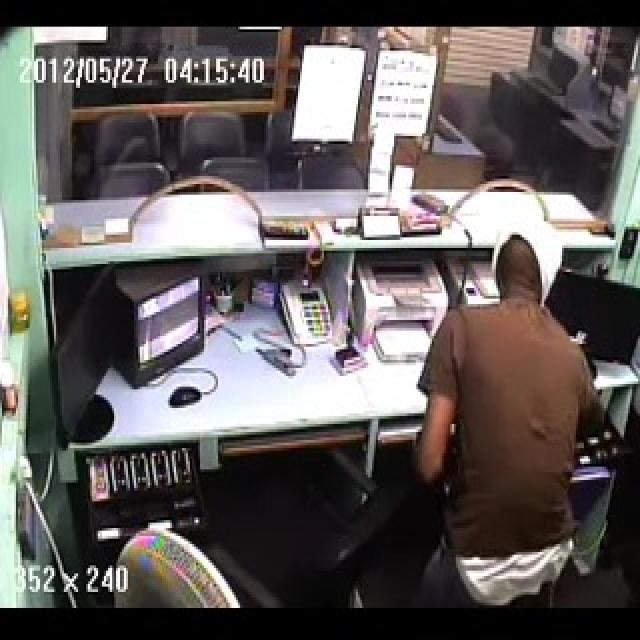thief: (407, 212, 640, 598)
